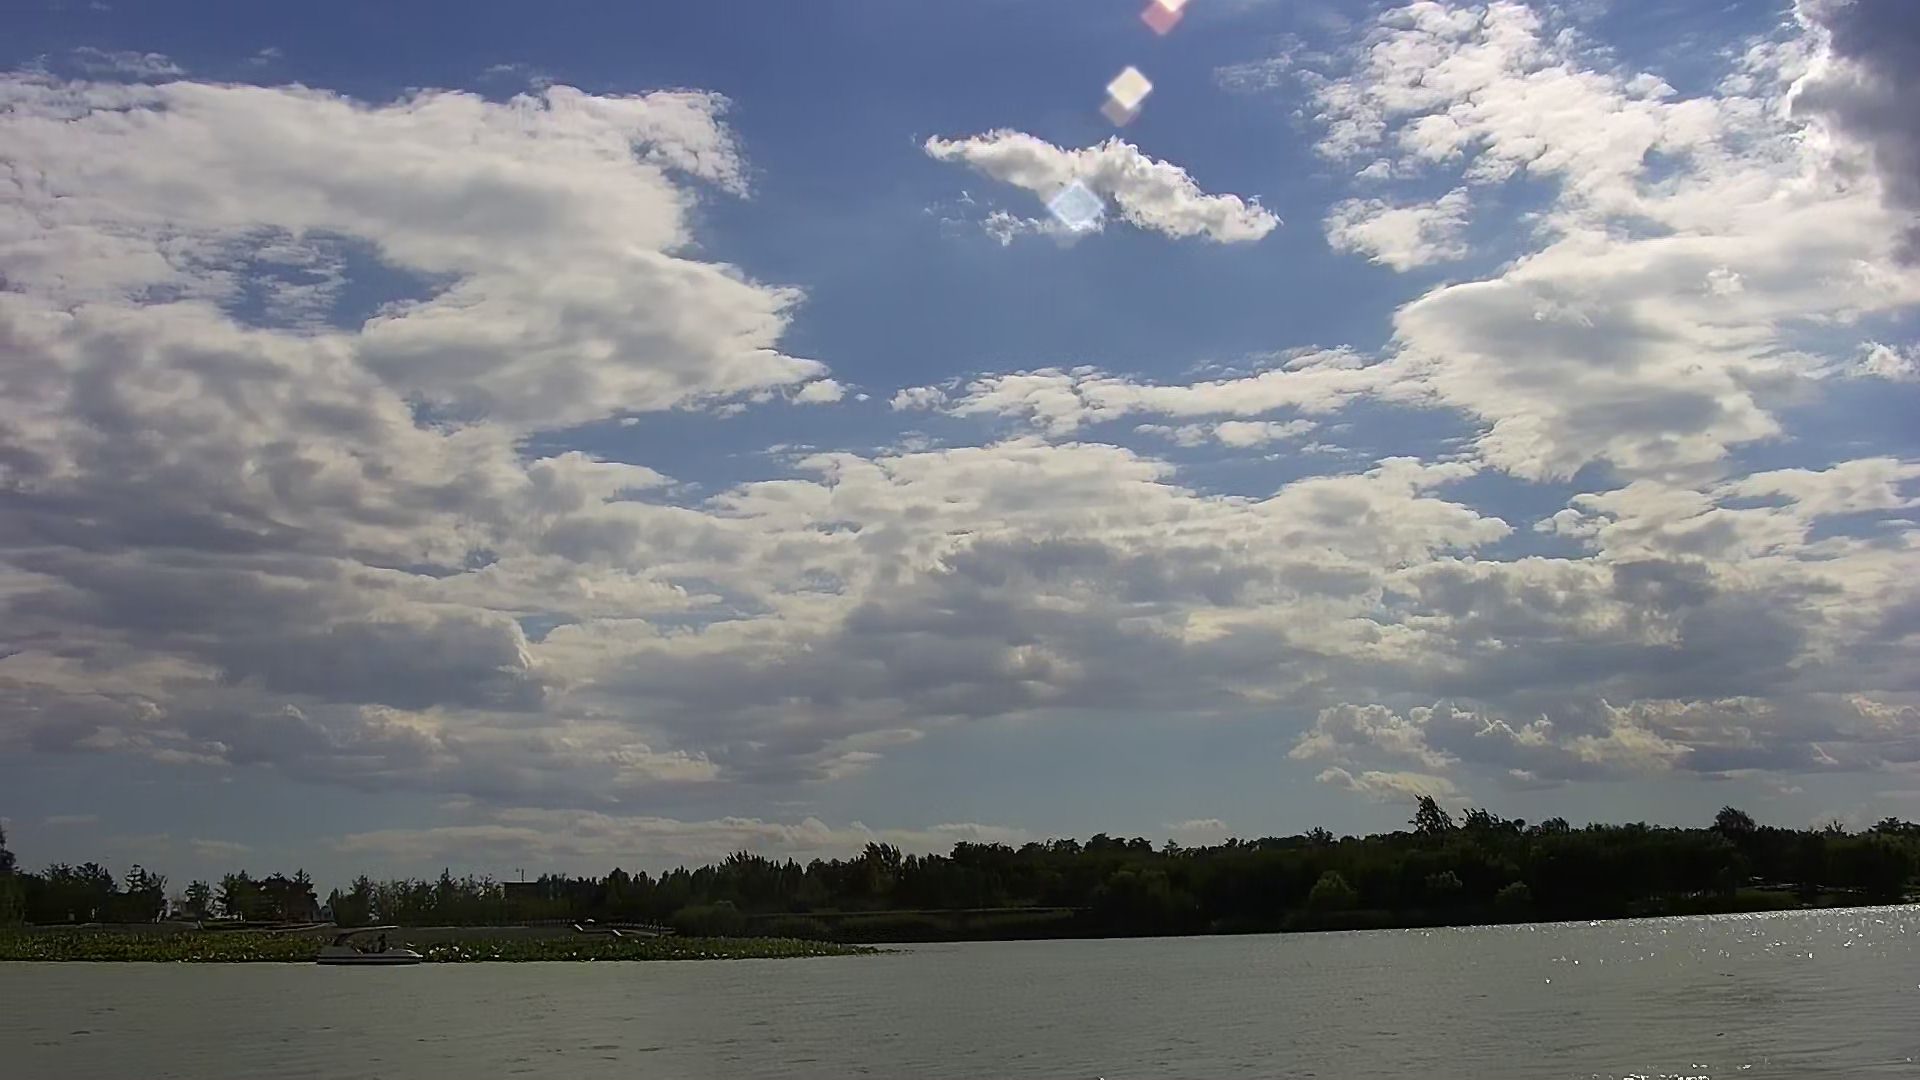boat: (313, 916, 435, 971)
